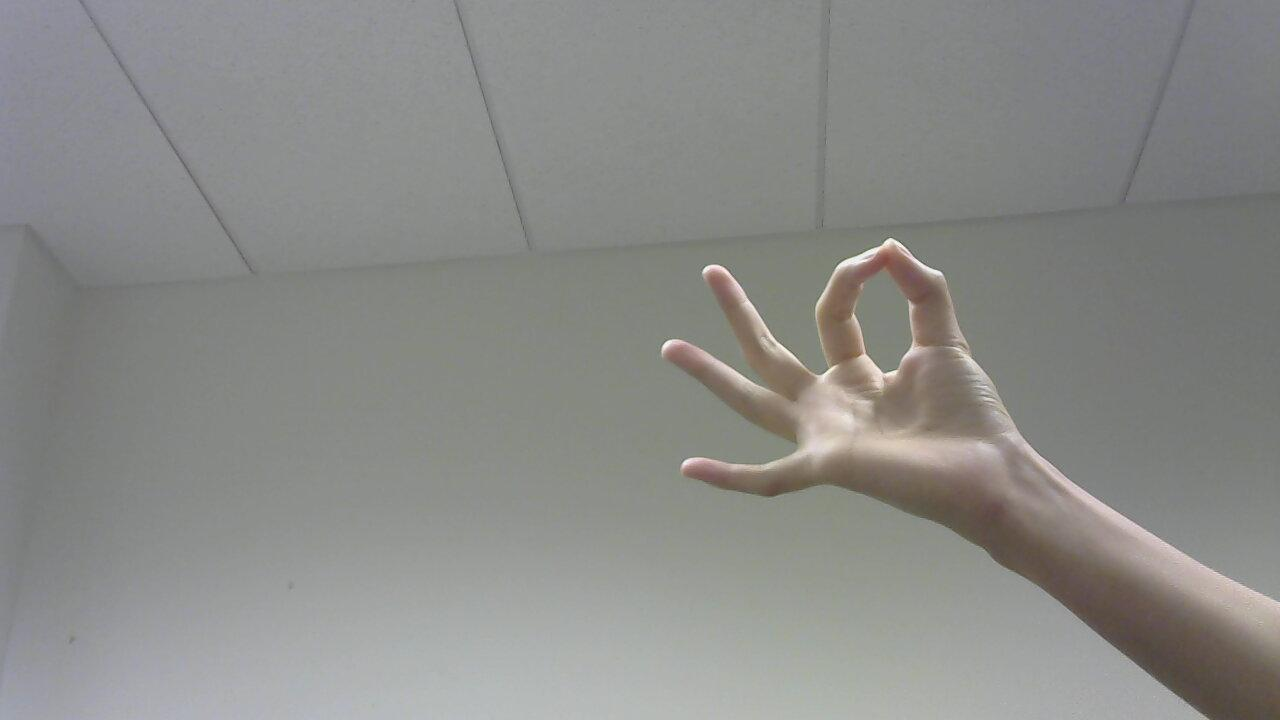hands: (656, 217, 1047, 558)
